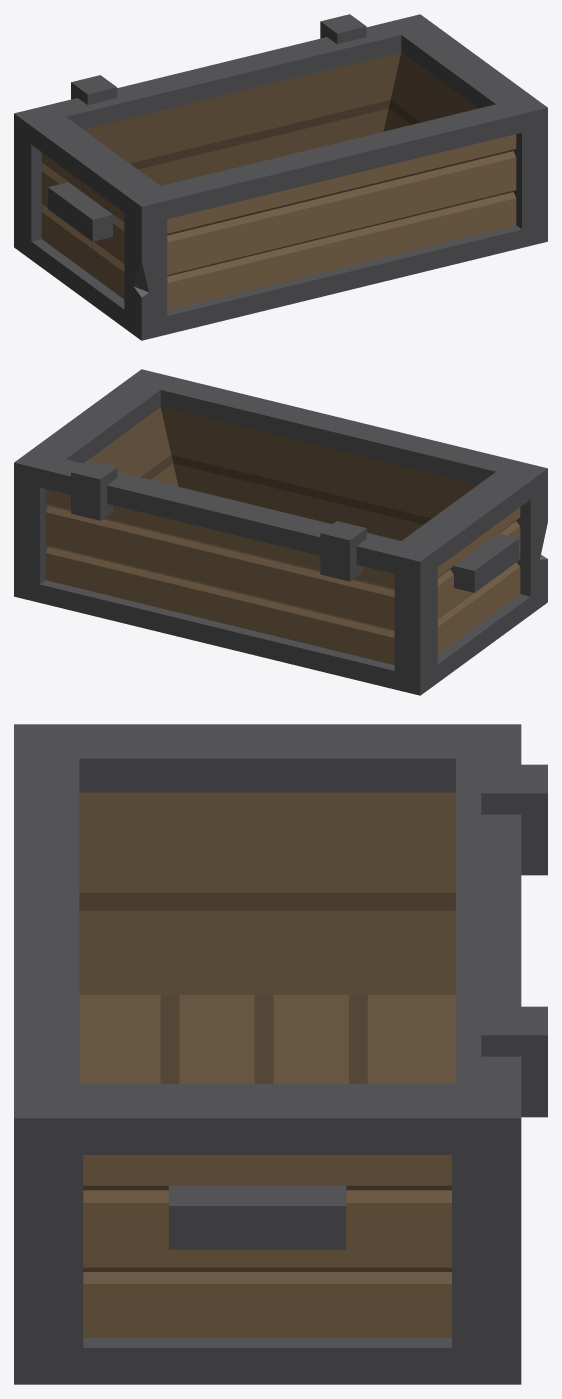
Rendered from poly_chest.glb.
3 views of the same model, one above another, from view 1: azimuth 30°, elevation 25°; view 2: azimuth 150°, elevation 25°; view 3: azimuth 270°, elevation 25° (orthographic). The views are drawn at different scales.
Parts seen in each view (by area): view 1: SM_Prop_Chest_01; view 2: SM_Prop_Chest_01; view 3: SM_Prop_Chest_01.
Part boxes in pixels (x1=…): SM_Prop_Chest_01: x1=14, y1=14, x2=547, y2=340; SM_Prop_Chest_01: x1=14, y1=369, x2=547, y2=695; SM_Prop_Chest_01: x1=14, y1=724, x2=547, y2=1384.
Size of the model in its own units: 123 by 39.99 by 67.3.
1 material, 1 textured.
